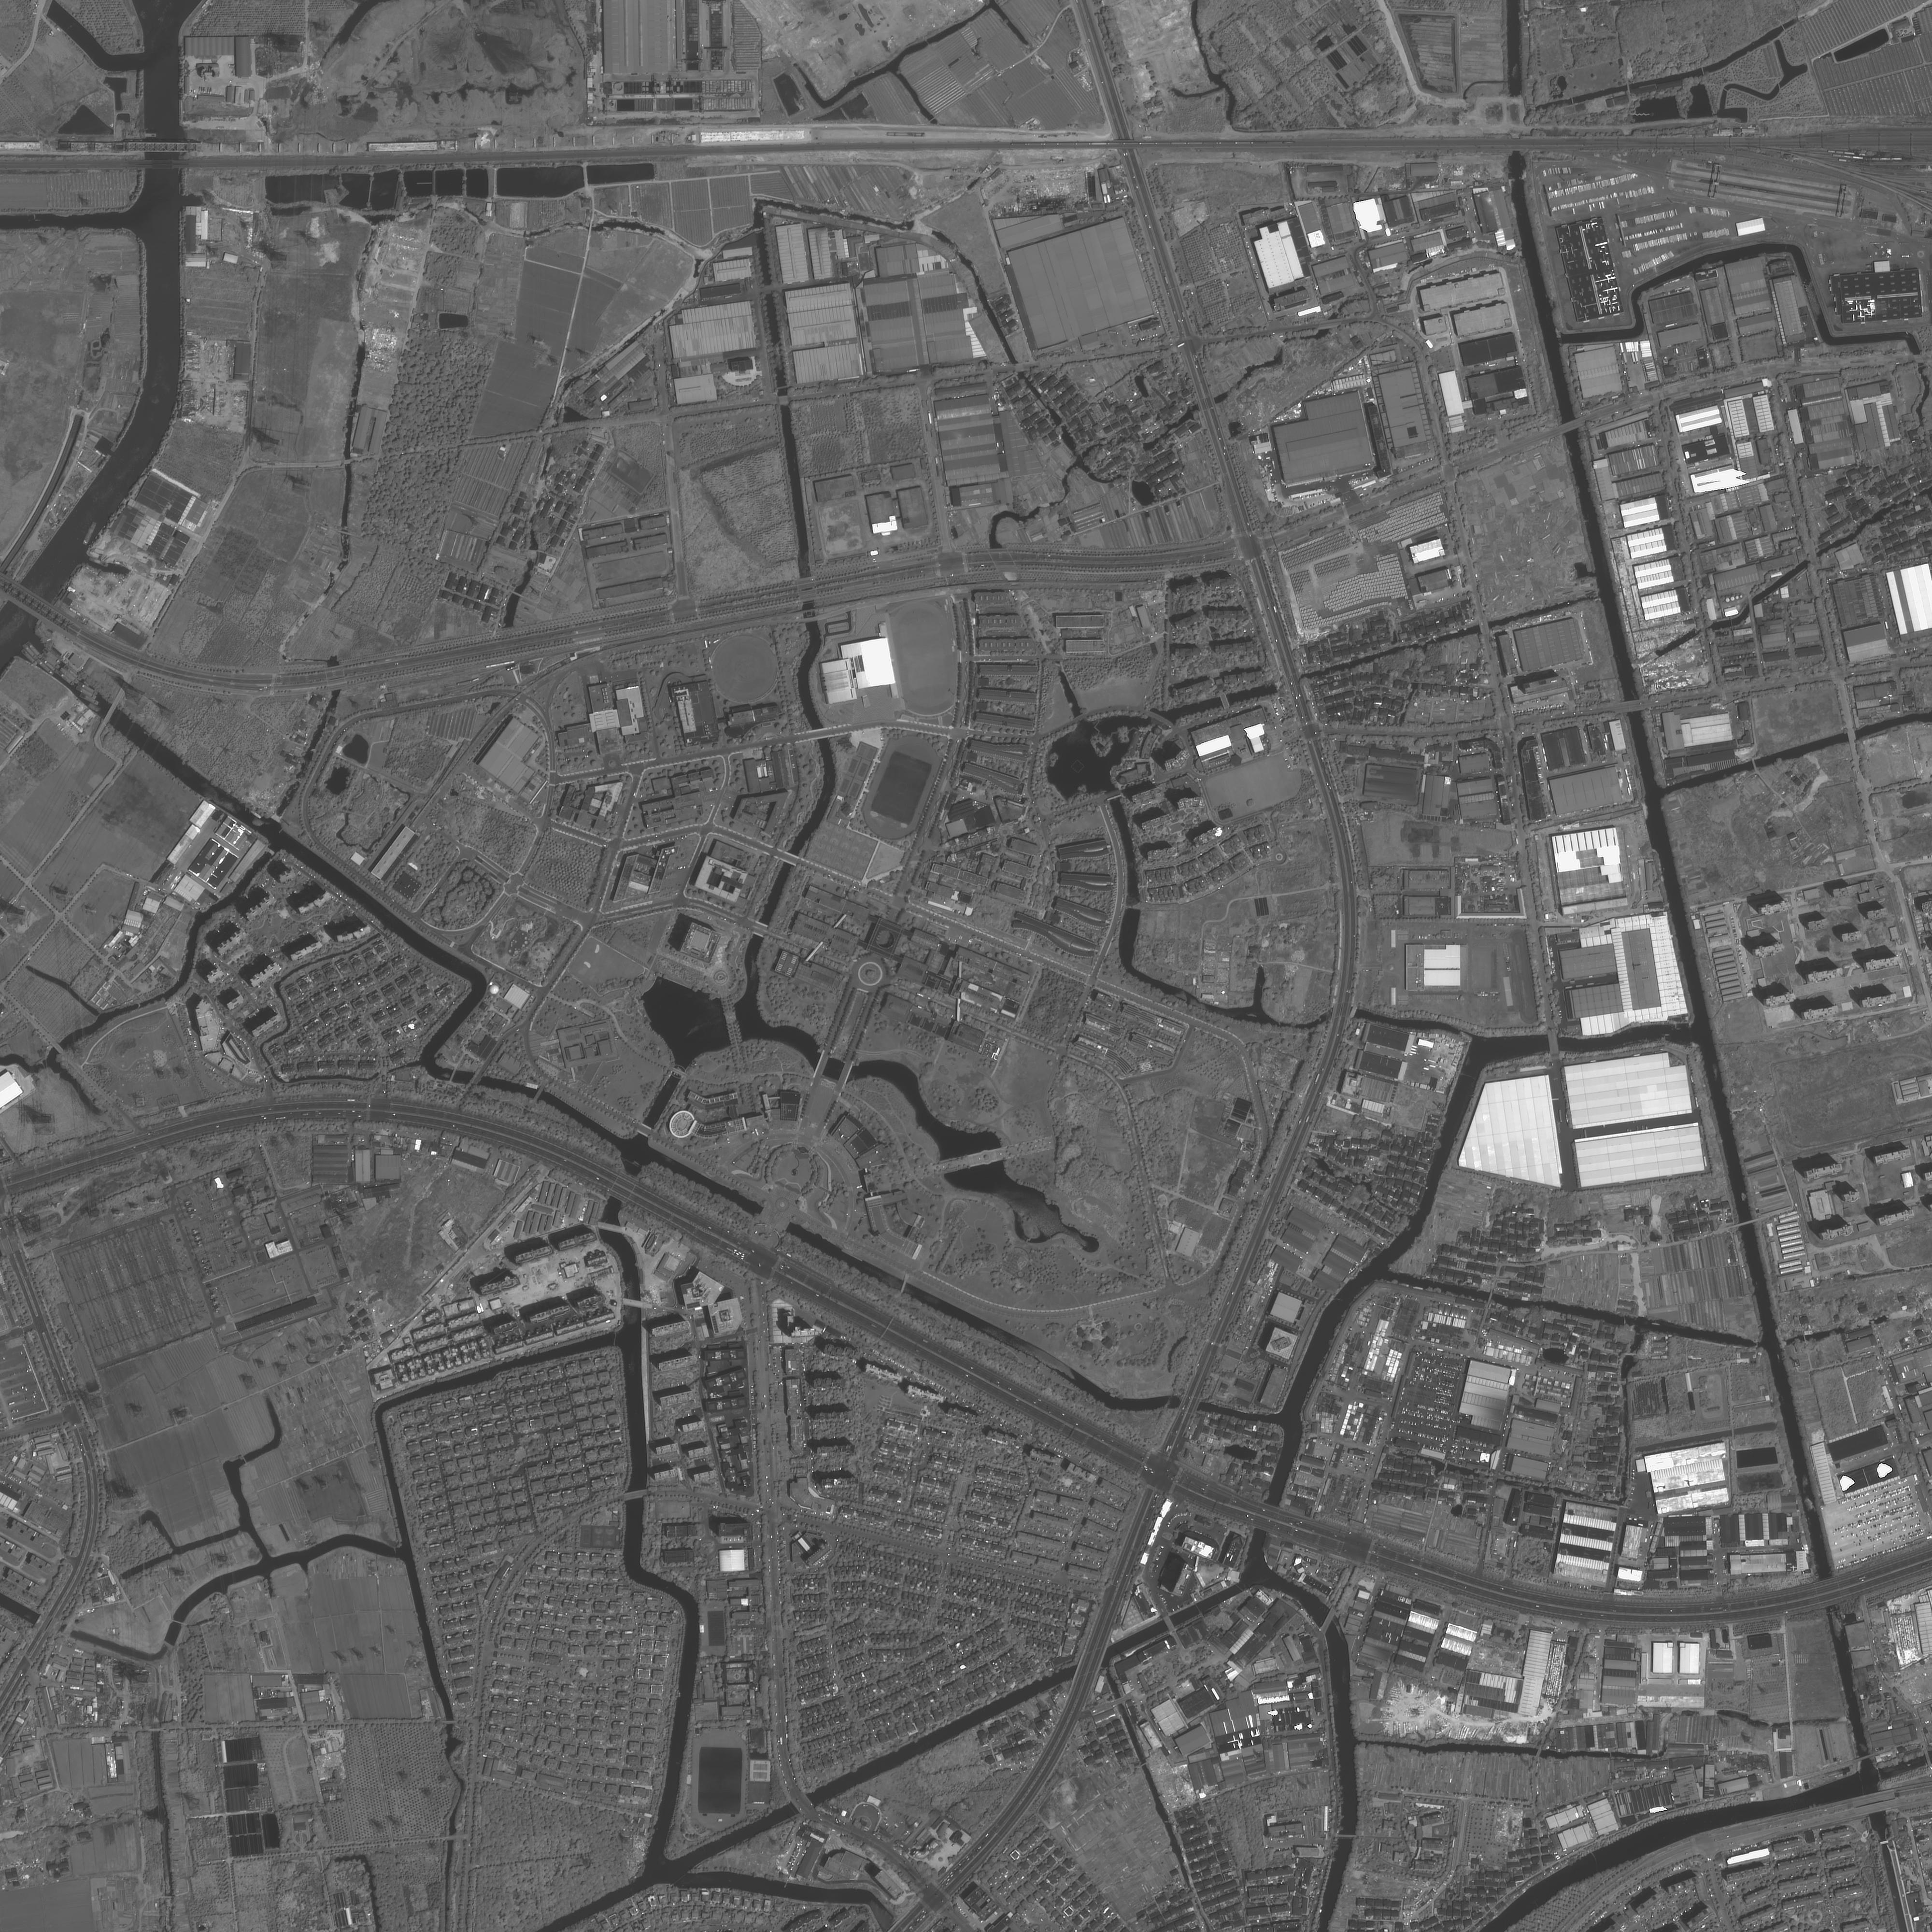ship: (82, 521, 99, 546), (63, 664, 84, 682), (59, 668, 80, 685), (56, 670, 76, 687), (43, 648, 63, 665), (41, 653, 61, 670), (20, 648, 38, 667), (40, 657, 59, 674), (75, 685, 97, 700), (22, 643, 39, 661), (77, 682, 99, 696), (36, 660, 55, 676), (26, 641, 43, 659), (79, 693, 99, 706), (88, 556, 109, 568), (251, 810, 263, 820)
